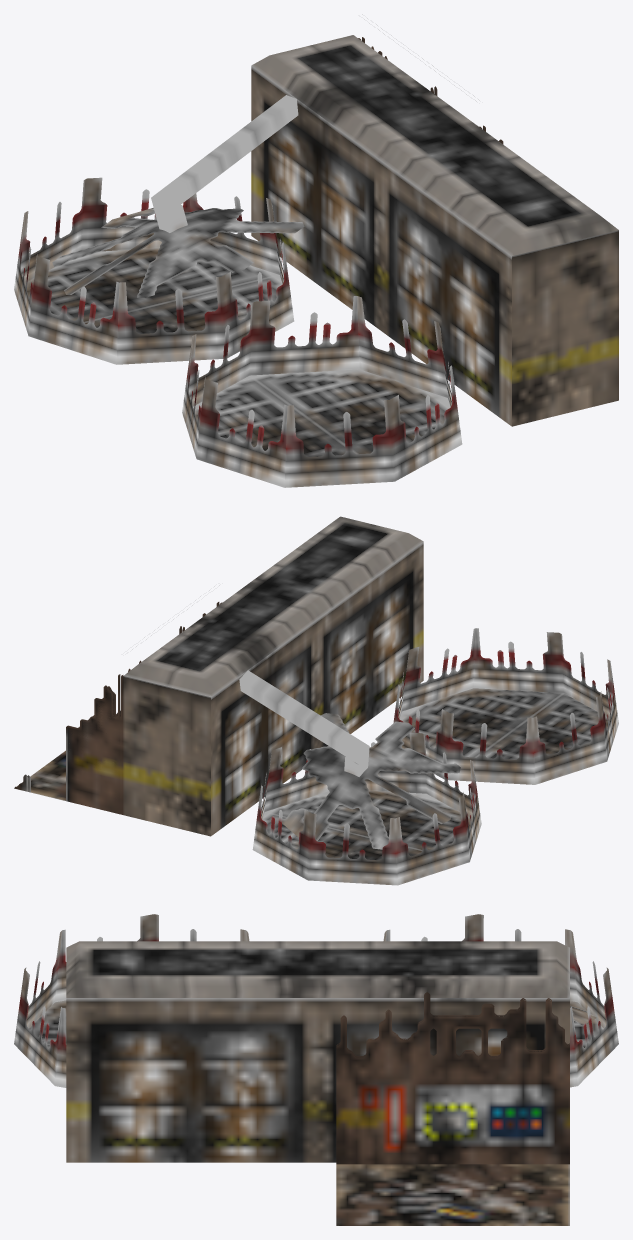
File: purificationplant_dam.glb
3 views of the same model, one above another, from view 1: azimuth 30°, elevation 25°; view 2: azimuth 150°, elevation 25°; view 3: azimuth 270°, elevation 25° (orthographic). The views are drawn at different scales.
Parts seen in each view (by area): view 1: PurificationPlantDam; view 2: PurificationPlantDam; view 3: PurificationPlantDam.
Boxes of the visible parts, left/top/right/bottom form: PurificationPlantDam: left=14, top=14, right=618, bottom=487; PurificationPlantDam: left=14, top=516, right=618, bottom=885; PurificationPlantDam: left=14, top=914, right=618, bottom=1225.
Size of the model in its own units: 15.15 by 5.52 by 16.08.
Materials: 1 (1 with a texture image).
